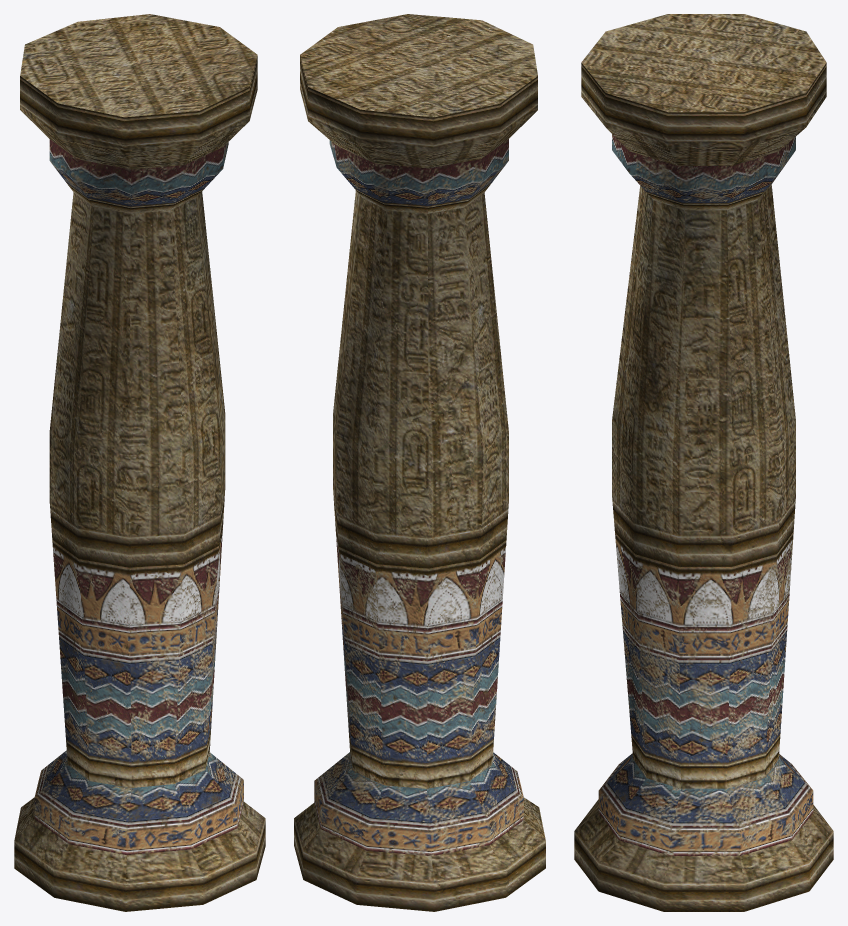
The model's file is pilaar.obj.
The picture shows the model from 3 angles, left to right: view 1: azimuth 30°, elevation 25°; view 2: azimuth 150°, elevation 25°; view 3: azimuth 270°, elevation 25°; orthographic projection.
Visible parts, largest first — view 1: Group; view 2: Group; view 3: Group.
Boxes of the visible parts, x1,y1,x2,y2 form: Group: [14, 14, 265, 911]; Group: [294, 14, 545, 911]; Group: [574, 14, 833, 911].
Size of the model in its own units: 28.28 by 101 by 29.88.
